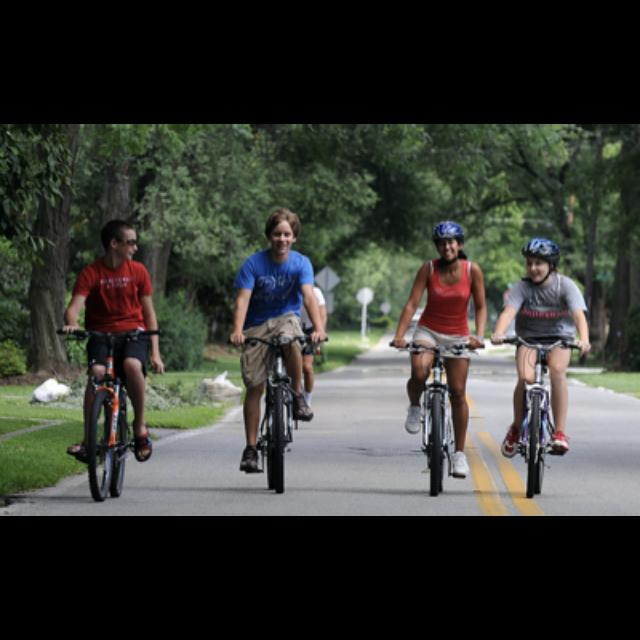With Helmet: (514, 232, 568, 284), (427, 216, 475, 266)
Without Helmet: (260, 204, 304, 254), (98, 212, 142, 262)
